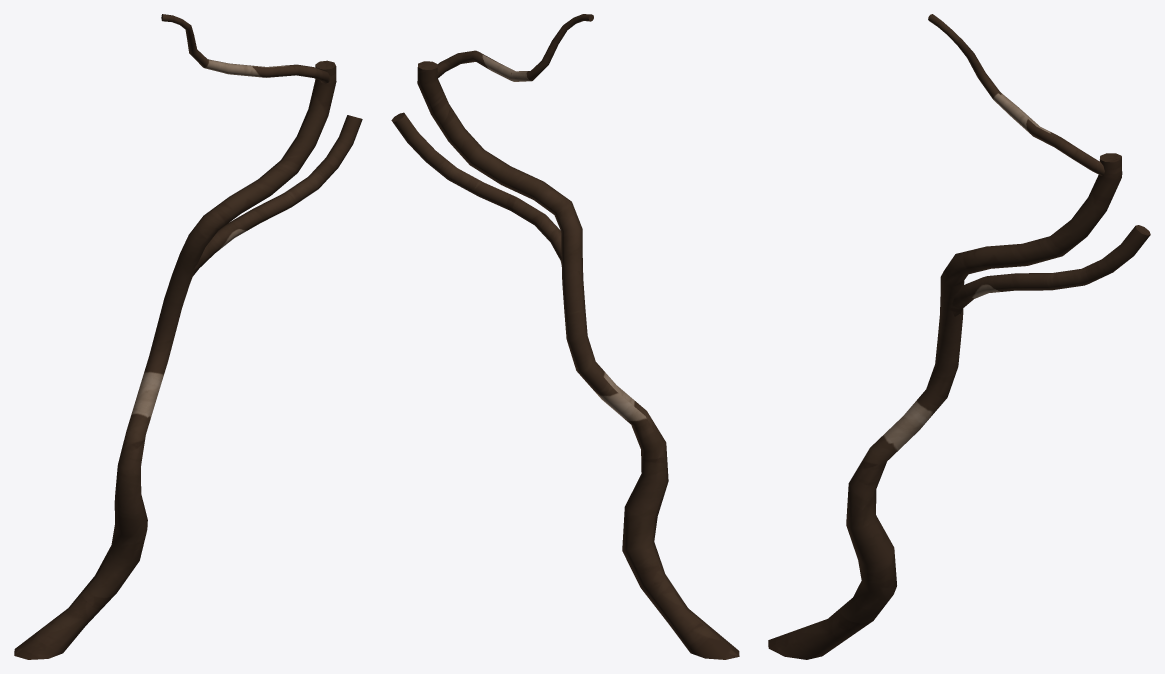
Rendered from basic_staff.fbx.
The picture shows the model from 3 angles, left to right: view 1: azimuth 30°, elevation 25°; view 2: azimuth 150°, elevation 25°; view 3: azimuth 330°, elevation 25°; orthographic projection. The views are drawn at different scales.
Visible parts, largest first — view 1: staff; view 2: staff; view 3: staff.
Part boxes in pixels (bbox=[...]): staff: bbox=[14, 14, 362, 659]; staff: bbox=[391, 14, 739, 659]; staff: bbox=[768, 14, 1150, 659].
Bounding box in the file's own units: 91.9 × 154 × 14.71.
